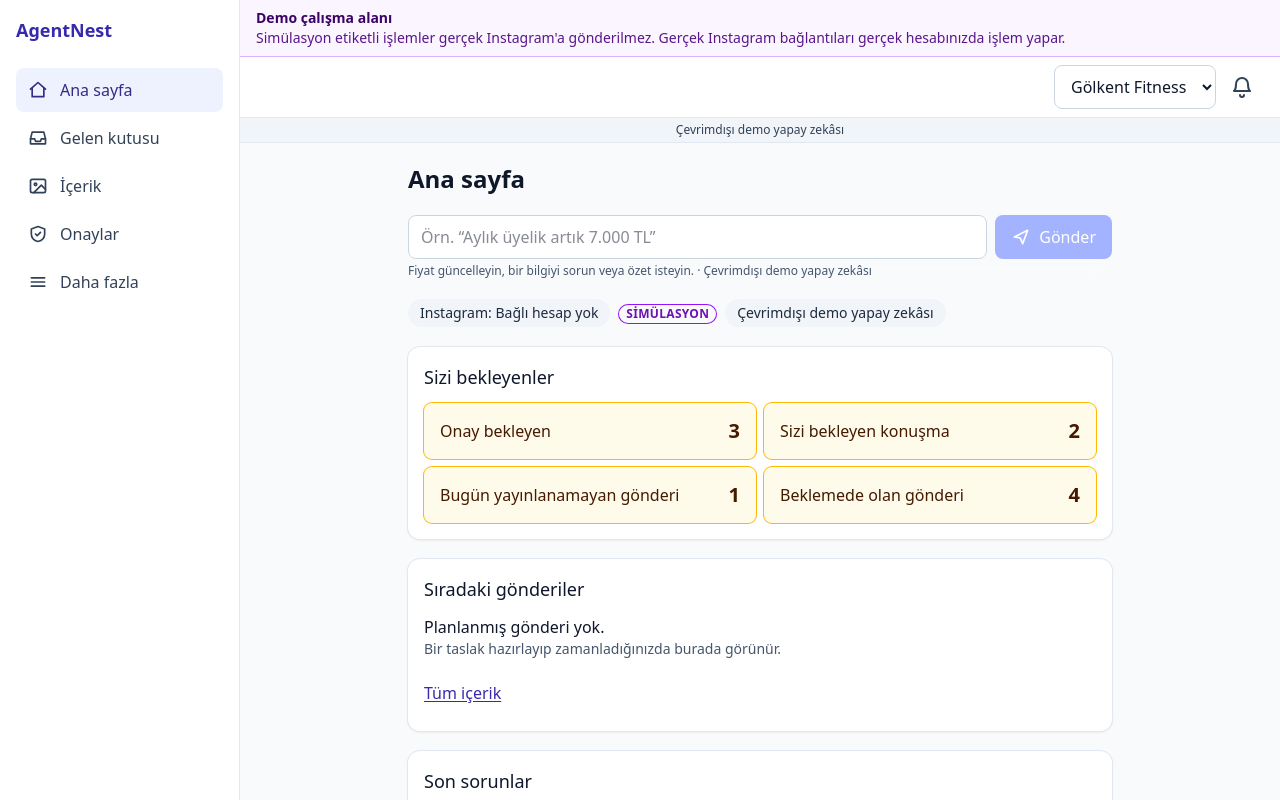
it: Home: attention cards › the on-hold card opens the problems tab, which lists the held posts
Click the link "Beklemede olan gönderi 4". click: (930, 495)
box: [764, 467, 1096, 523]
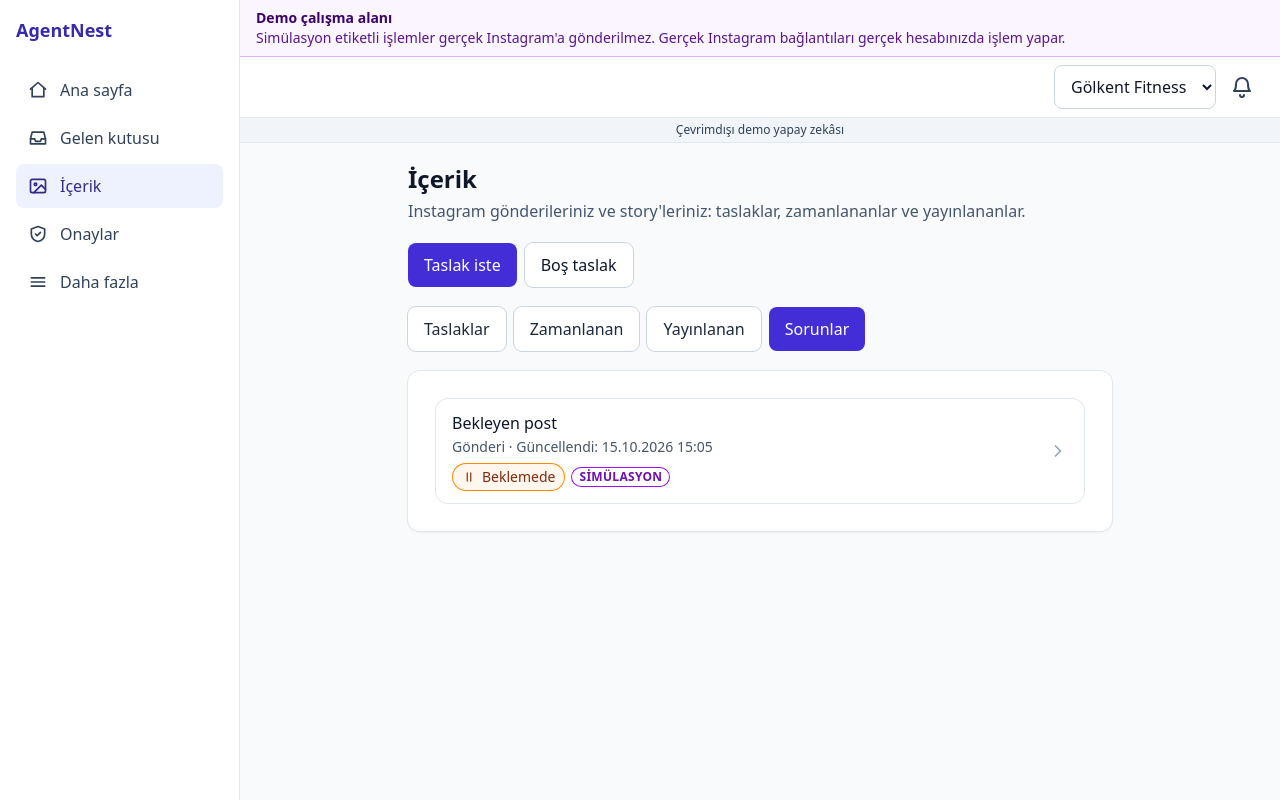
Expected: the heading "İçerik" is shown, [408, 162, 477, 195]
Expected: the text "Bekleyen post" is shown, [452, 412, 557, 434]
